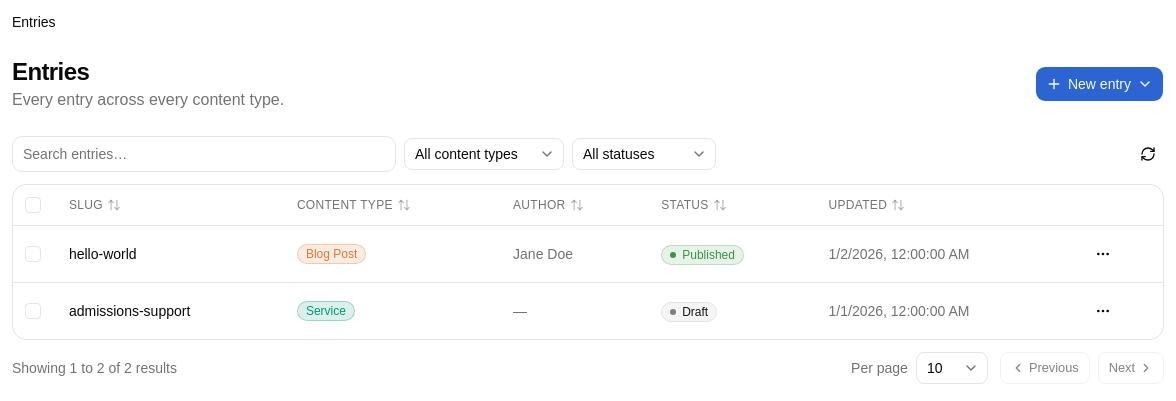
it: AllEntriesPage › filters by content type
Expected: the link "hello-world" is shown, [69, 246, 137, 262]
Step 1. Click the dropdown named "Filter by content type" → click(484, 154), box [404, 138, 564, 170]
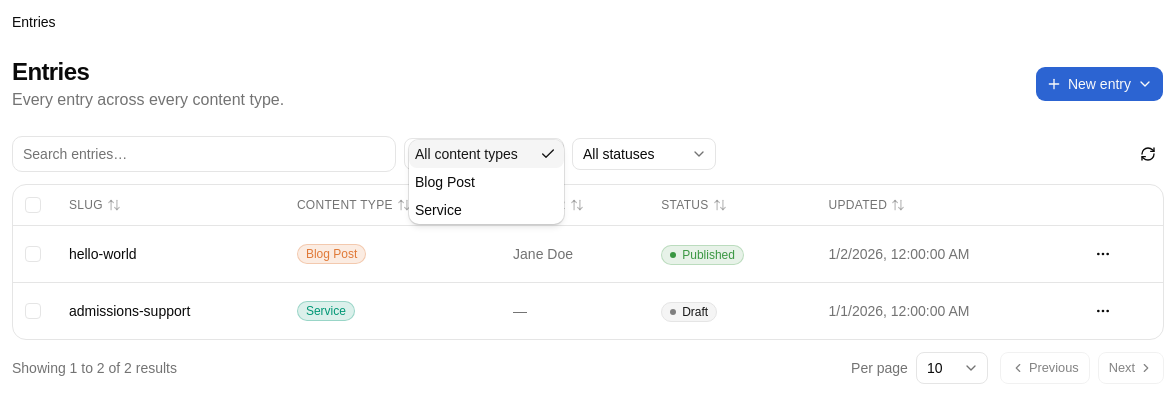
Step 2. Click the option "Service" → click(438, 210), box [415, 202, 462, 218]
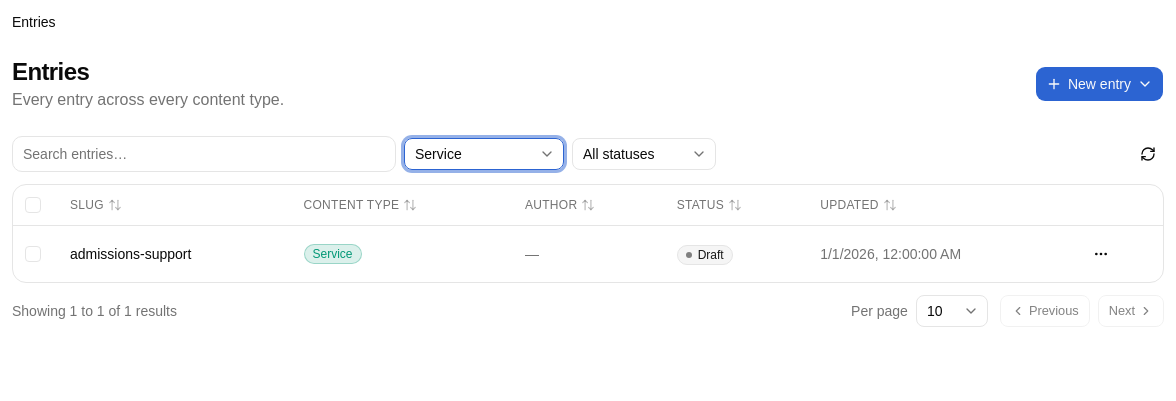
Expected: the link "hello-world" is gone
Expected: the link "admissions-support" is shown, [70, 246, 191, 262]
